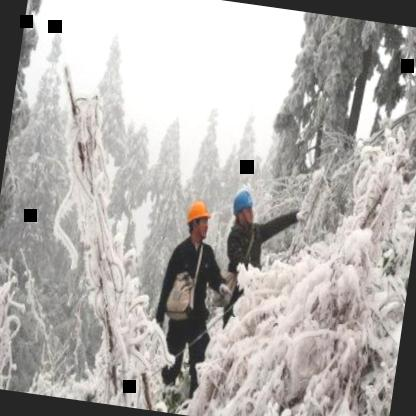helmet: (181, 194, 215, 244), (230, 187, 258, 231)
